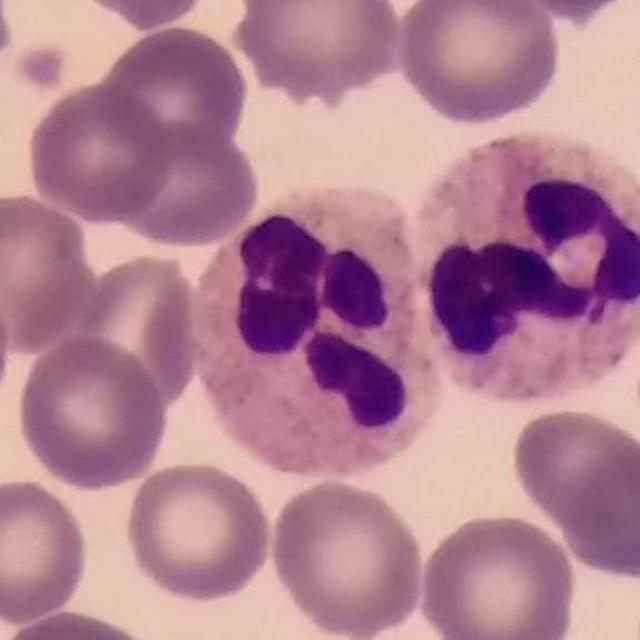Neutrophil: (195, 174, 455, 487), (402, 119, 640, 428)
Platelets: (19, 41, 68, 96)
RBC: (265, 474, 430, 640), (13, 330, 172, 493), (120, 458, 276, 606), (22, 78, 176, 225), (414, 508, 581, 640), (392, 0, 565, 127), (94, 21, 252, 160), (72, 253, 200, 413), (108, 122, 262, 250), (507, 402, 640, 544), (230, 0, 408, 104), (0, 187, 98, 354), (0, 475, 92, 625), (558, 431, 640, 583), (0, 605, 168, 640), (69, 0, 222, 31), (491, 0, 638, 26), (0, 270, 16, 428), (0, 1, 17, 84)
